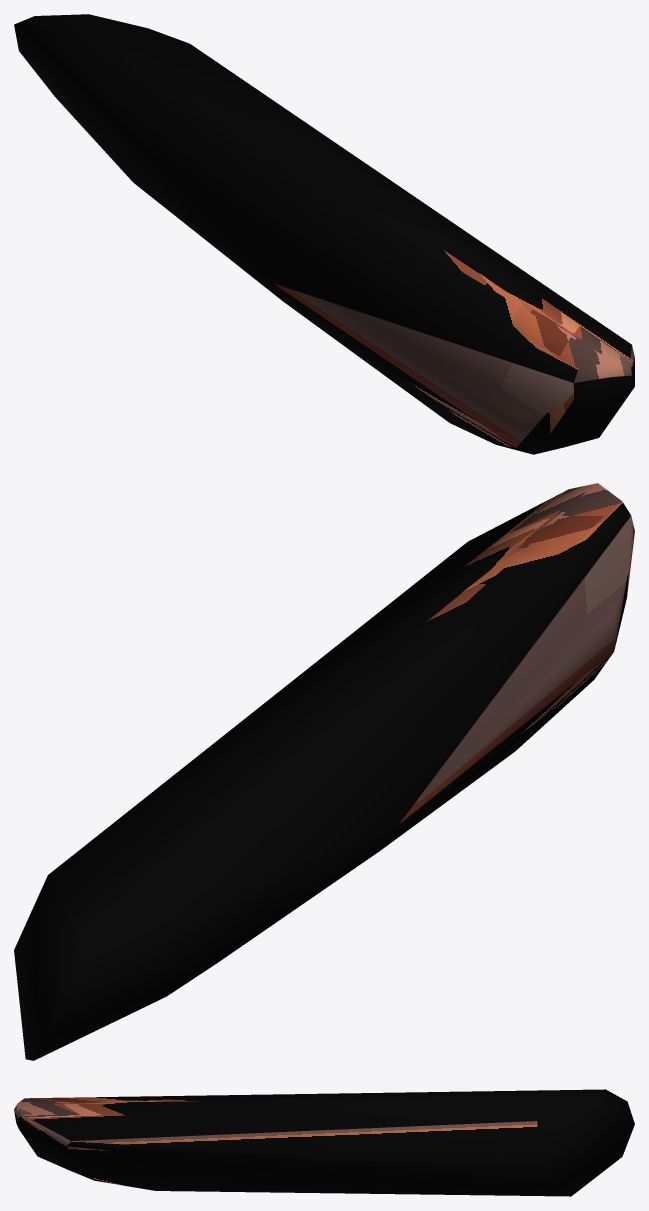
Rendered from arm_collider.fbx.
3 renders of one model, top to bottom at view 1: azimuth 30°, elevation 25°; view 2: azimuth 150°, elevation 25°; view 3: azimuth 270°, elevation 25°, orthographic. The views are drawn at different scales.
Visible parts, largest first — view 1: arm_mesh; view 2: arm_mesh; view 3: arm_mesh.
Part boxes in pixels (x1,y1,x2,y2): arm_mesh: (14, 14, 634, 454); arm_mesh: (14, 483, 634, 1060); arm_mesh: (14, 1089, 634, 1196).
Bounding box in the file's own units: 13.85 × 13.93 × 86.08.
